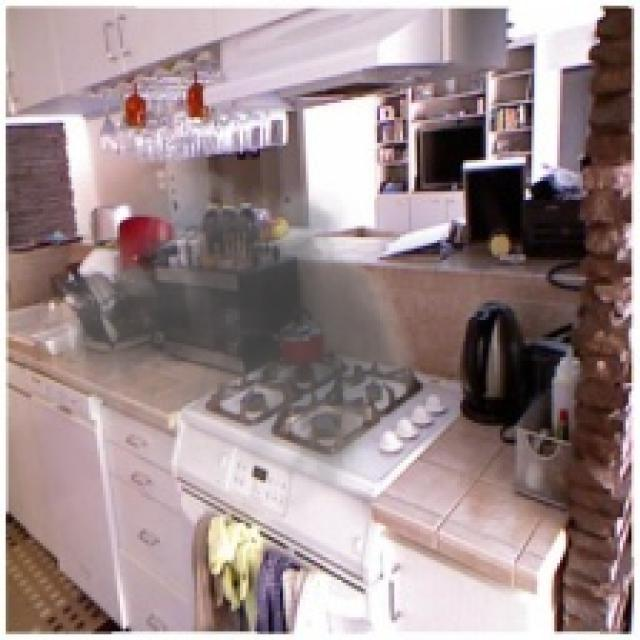smoke: (37, 149, 437, 560)
